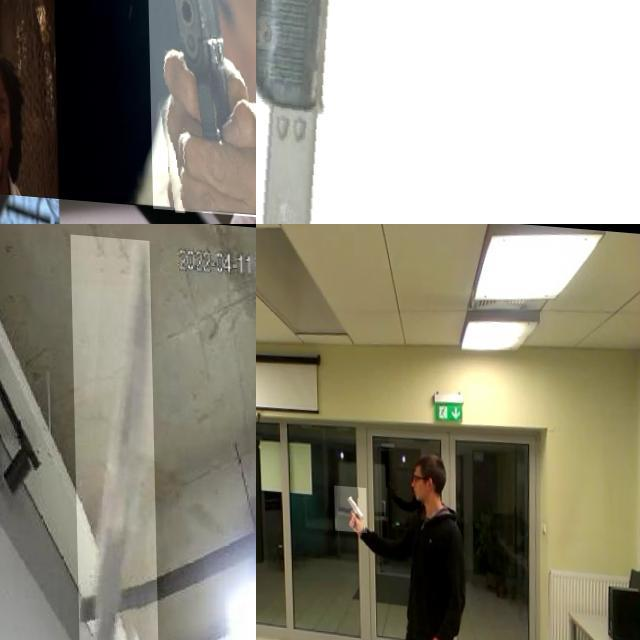-: (70, 227, 158, 640)
gun-knife-thesis - v11 Yolov5 augmented: (256, 0, 640, 224), (147, 0, 256, 209), (332, 480, 366, 527), (0, 0, 30, 45)
